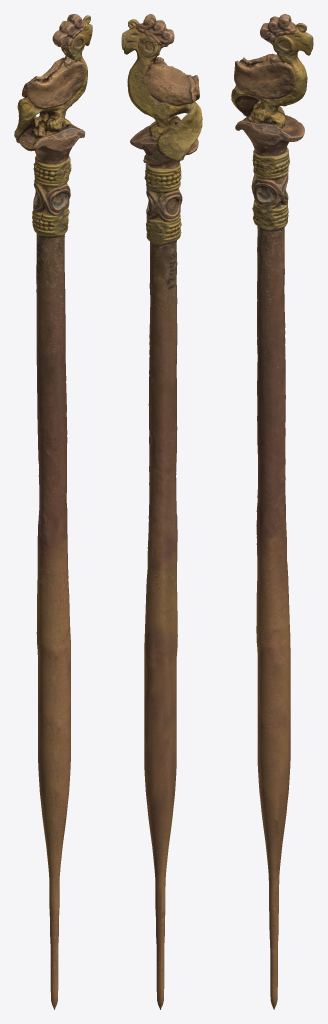
The model's file is pin_quimbaya_culture_gallo.glb.
3 renders of one model, left to right at view 1: azimuth 30°, elevation 25°; view 2: azimuth 150°, elevation 25°; view 3: azimuth 330°, elevation 25°, orthographic.
Parts seen in each view (by area): view 1: 17448_LP; view 2: 17448_LP; view 3: 17448_LP.
Boxes of the visible parts, x1,y1,x2,y2 form: 17448_LP: (14,14,92,1009); 17448_LP: (121,14,202,1009); 17448_LP: (231,14,313,1009).
Size of the model in its own units: 0.0252 by 0.3136 by 0.0119.
Materials: 1 (1 with a texture image).
